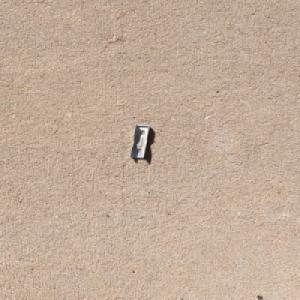ClampPart: (129, 124, 152, 159)
